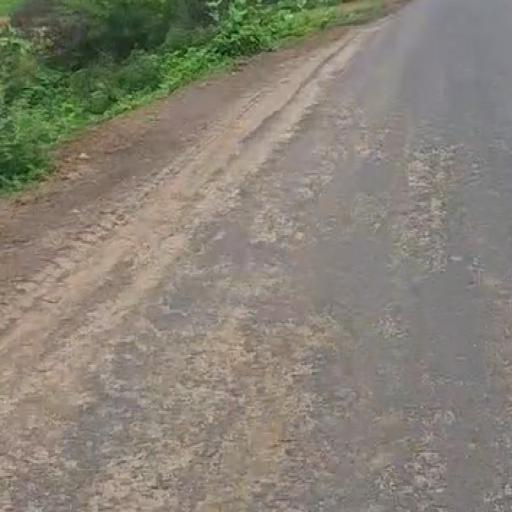edge_damage: (9, 70, 370, 501)
ravelling: (106, 233, 422, 483)
